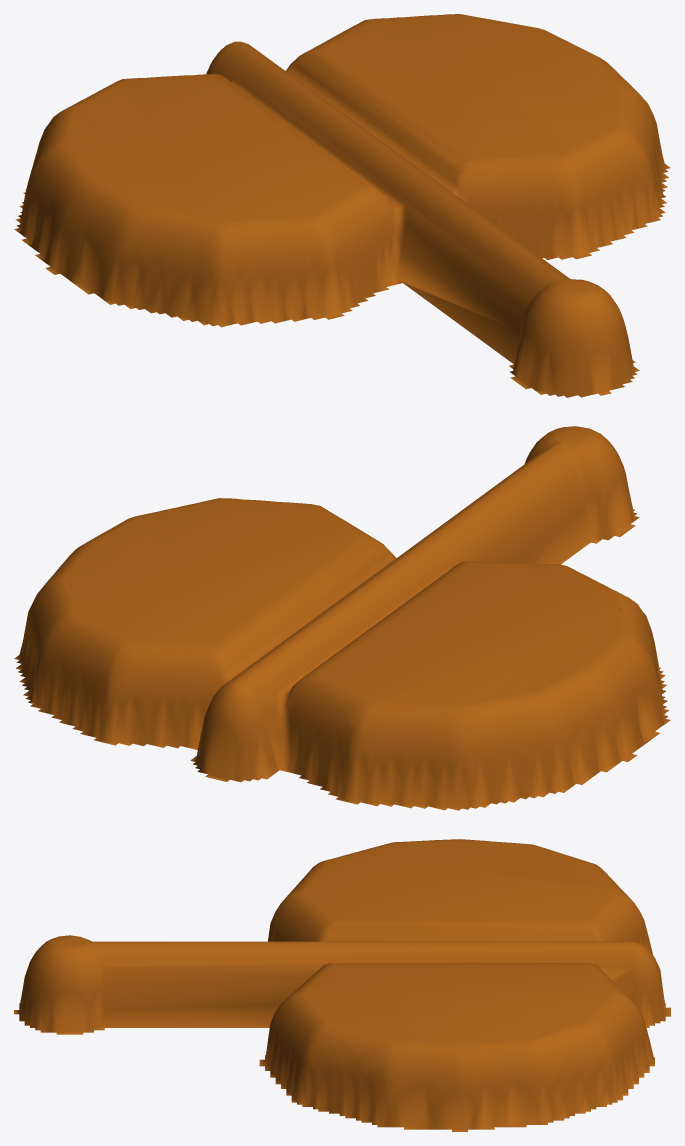
The model's file is decoration-barbarian.glb.
3 renders of one model, top to bottom at view 1: azimuth 30°, elevation 25°; view 2: azimuth 150°, elevation 25°; view 3: azimuth 270°, elevation 25°, orthographic. The views are drawn at different scales.
Visible parts, largest first — view 1: decoration_barbarian; view 2: decoration_barbarian; view 3: decoration_barbarian.
Boxes of the visible parts, x1=… form: decoration_barbarian: x1=14, y1=14, x2=670, y2=397; decoration_barbarian: x1=14, y1=426, x2=670, y2=810; decoration_barbarian: x1=14, y1=839, x2=670, y2=1131.
Size of the model in its own units: 0.1908 by 0.026 by 0.2214.
